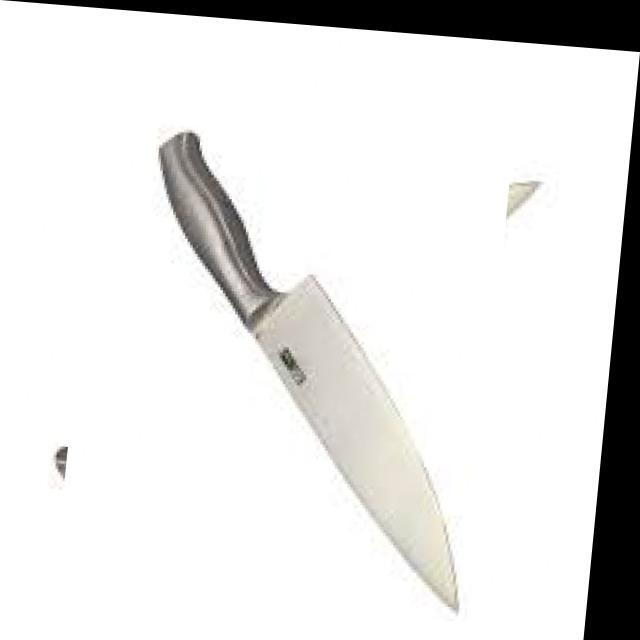knife: (156, 130, 462, 616)
